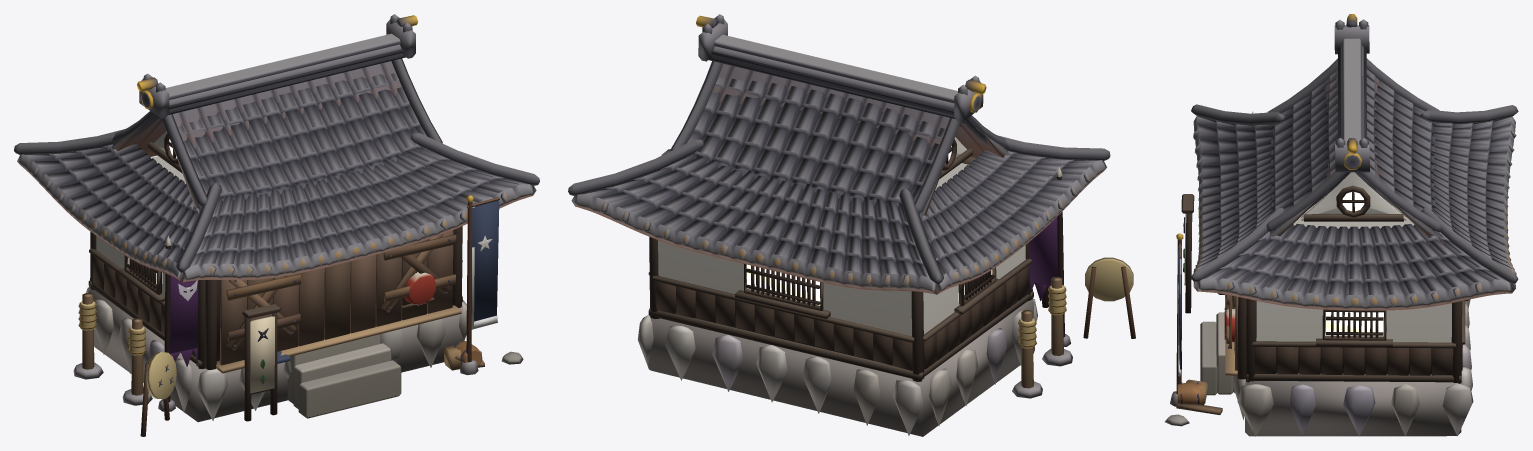
File: zv-bamboo-dojo.glb
3 views of the same model, side by side, from view 1: azimuth 30°, elevation 25°; view 2: azimuth 150°, elevation 25°; view 3: azimuth 270°, elevation 25° (orthographic). The views are drawn at different scales.
Visible parts, largest first — view 1: zv-bamboo-dojo, siege, saved; view 2: zv-bamboo-dojo, siege, window_glow; view 3: zv-bamboo-dojo, siege, window_glow, saved.
Boxes of the visible parts, x1,y1,x2,y2 form: zv-bamboo-dojo: (14,14,539,436); siege: (158,230,523,411); saved: (277,195,499,375); zv-bamboo-dojo: (568,14,1135,436); siege: (1029,166,1070,346); window_glow: (746,146,992,305); zv-bamboo-dojo: (1181,14,1518,436); siege: (1165,111,1253,426); window_glow: (1325,192,1383,336); saved: (1170,233,1224,406).
Size of the model in its own units: 6.09 by 4.5 by 4.88.
